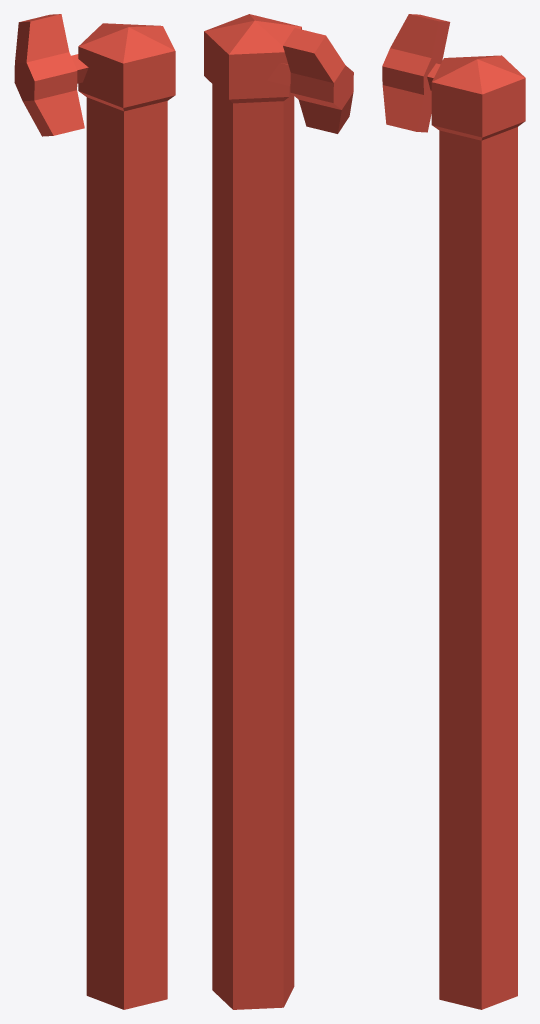
Rendered from SM_Tripod_Universal_Arm_A.fbx.
The picture shows the model from 3 angles, left to right: view 1: azimuth 30°, elevation 25°; view 2: azimuth 150°, elevation 25°; view 3: azimuth 330°, elevation 25°; orthographic projection. The views are drawn at different scales.
Parts seen in each view (by area): view 1: SM_Tripod_Universal_Arm_A; view 2: SM_Tripod_Universal_Arm_A; view 3: SM_Tripod_Universal_Arm_A.
Part boxes in pixels (box(x1,y1,x2,y2)): SM_Tripod_Universal_Arm_A: box(14, 14, 175, 1009); SM_Tripod_Universal_Arm_A: box(204, 14, 353, 1009); SM_Tripod_Universal_Arm_A: box(382, 14, 525, 1009).
Size of the model in its own units: 4.27 by 7.34 by 49.71.
